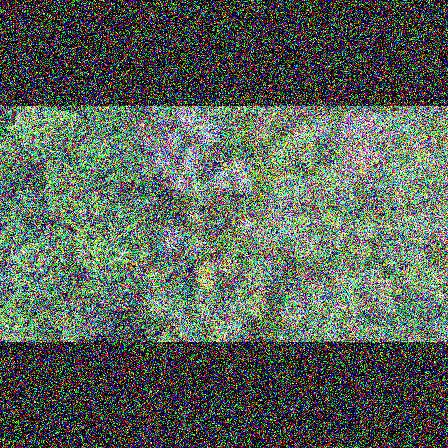Dead: (372, 109, 436, 142), (322, 116, 373, 153), (154, 222, 189, 254), (195, 121, 227, 156), (174, 107, 203, 136), (234, 210, 259, 240), (148, 152, 176, 176), (232, 170, 256, 196), (178, 142, 206, 162), (163, 127, 186, 150), (149, 106, 169, 131), (209, 172, 233, 192), (179, 159, 202, 175), (184, 208, 208, 223), (166, 174, 186, 191)
